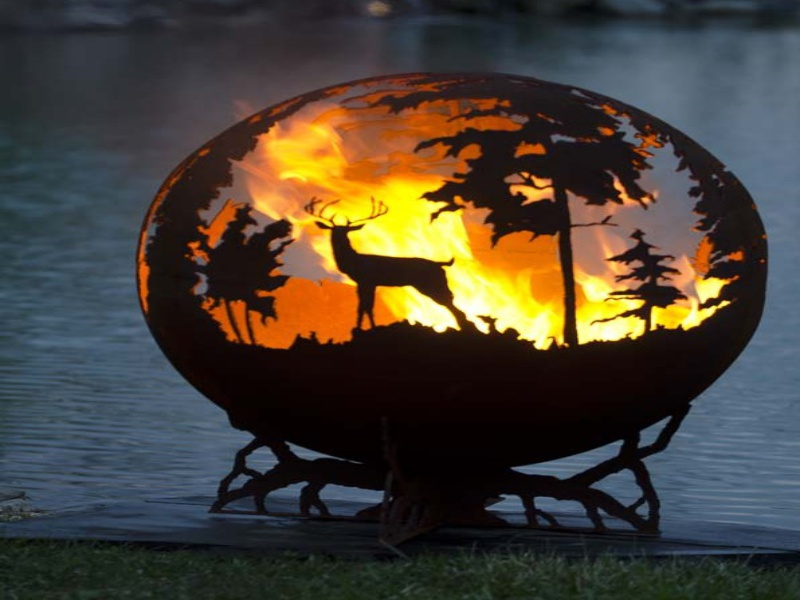fire: (213, 103, 727, 326)
